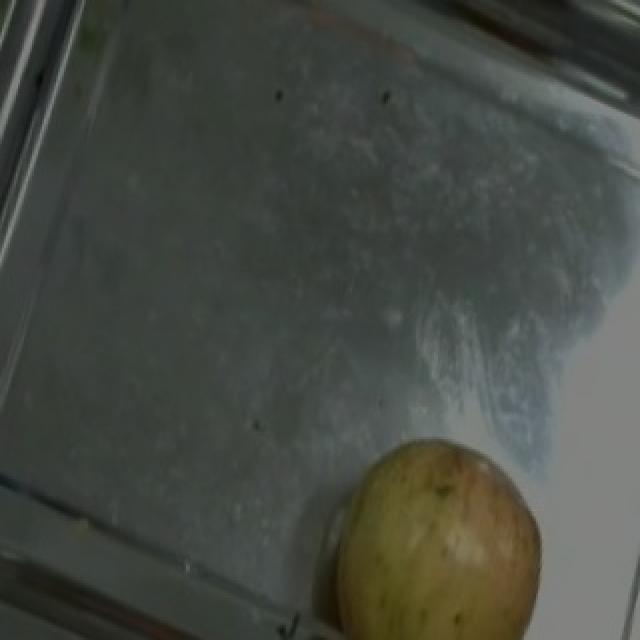fruit: (298, 409, 570, 640)
